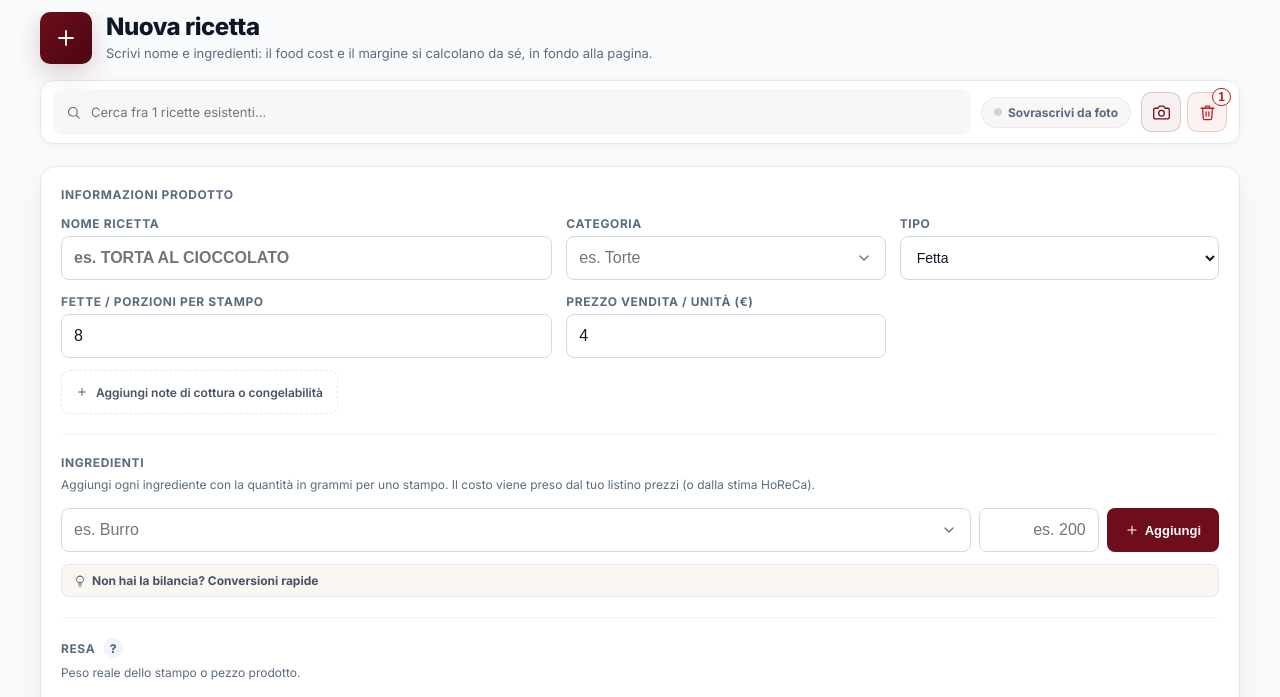
Test: Nuovo gusto - i nomi degli ingredienti mentre si aggiungono › il food cost non si muove: la riga costa quanto costava
Type "Burro" into the dropdown named "nome ingrediente da aggiungere" at (516, 530), box [61,508,971,552]
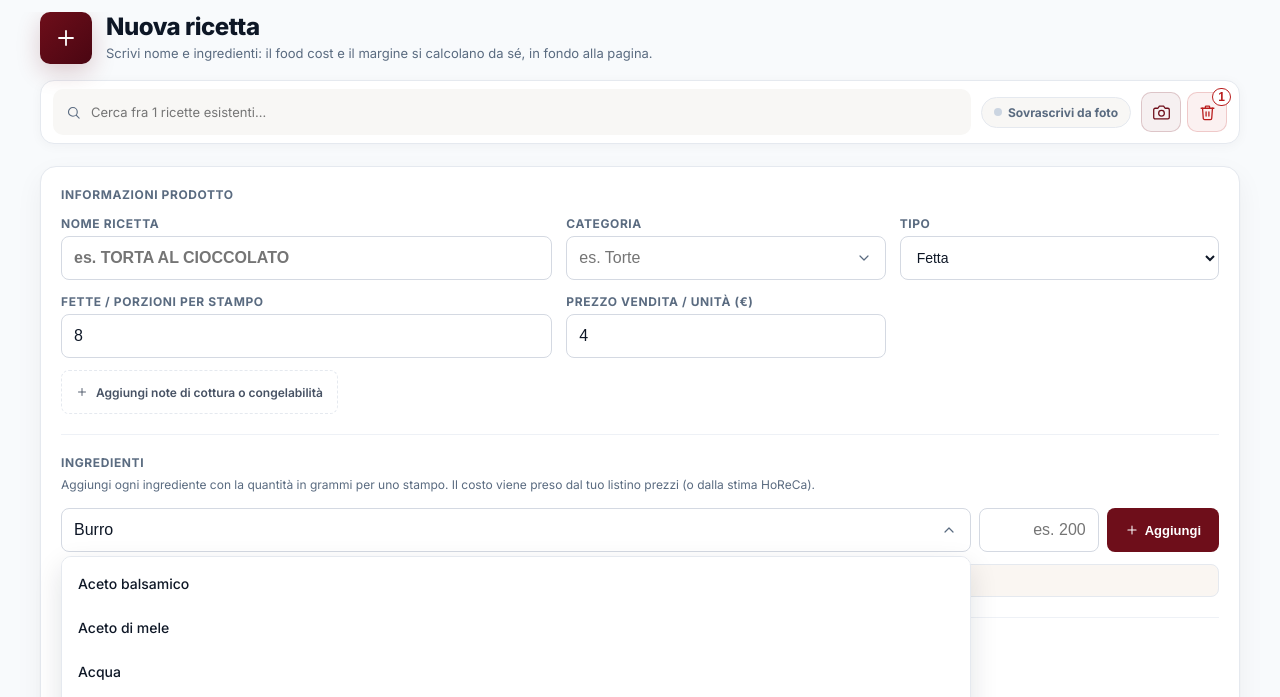
Type "250" into the field named "grammi di ingrediente da aggiungere" at (1039, 530), box [979,508,1099,552]
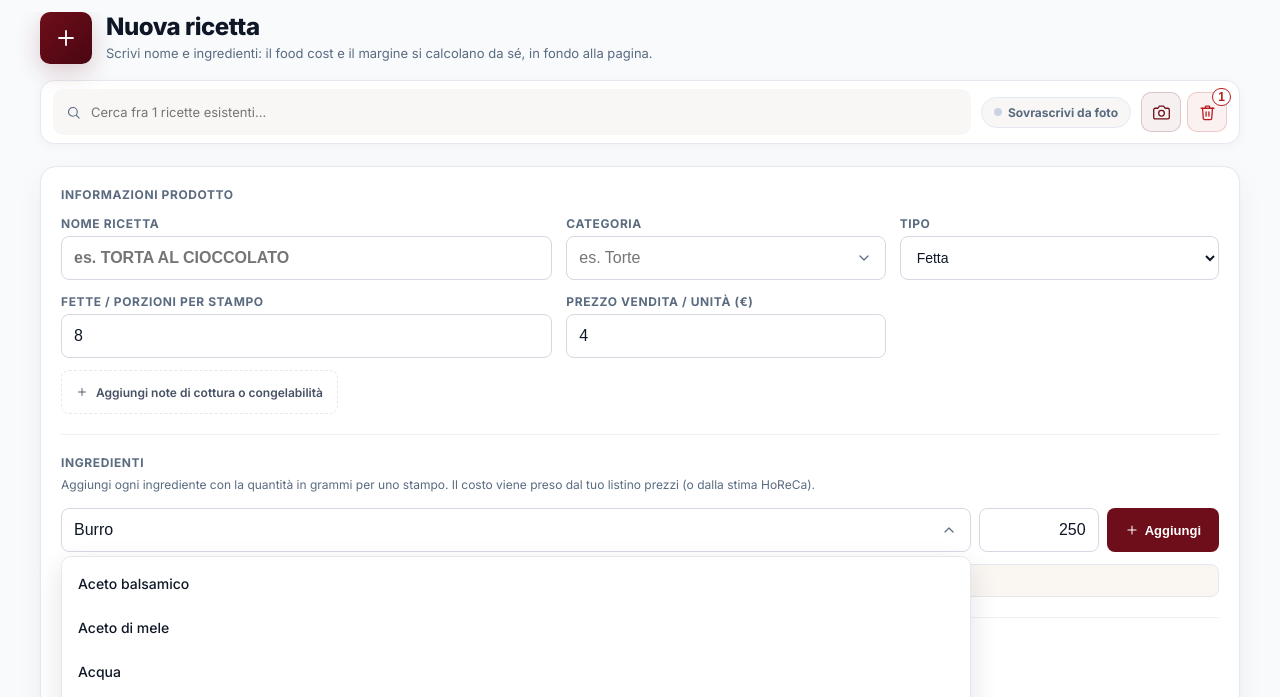
Click the button with aria-label "Aggiungi ingrediente alla ricetta" at (1163, 530), box [1107,508,1219,552]
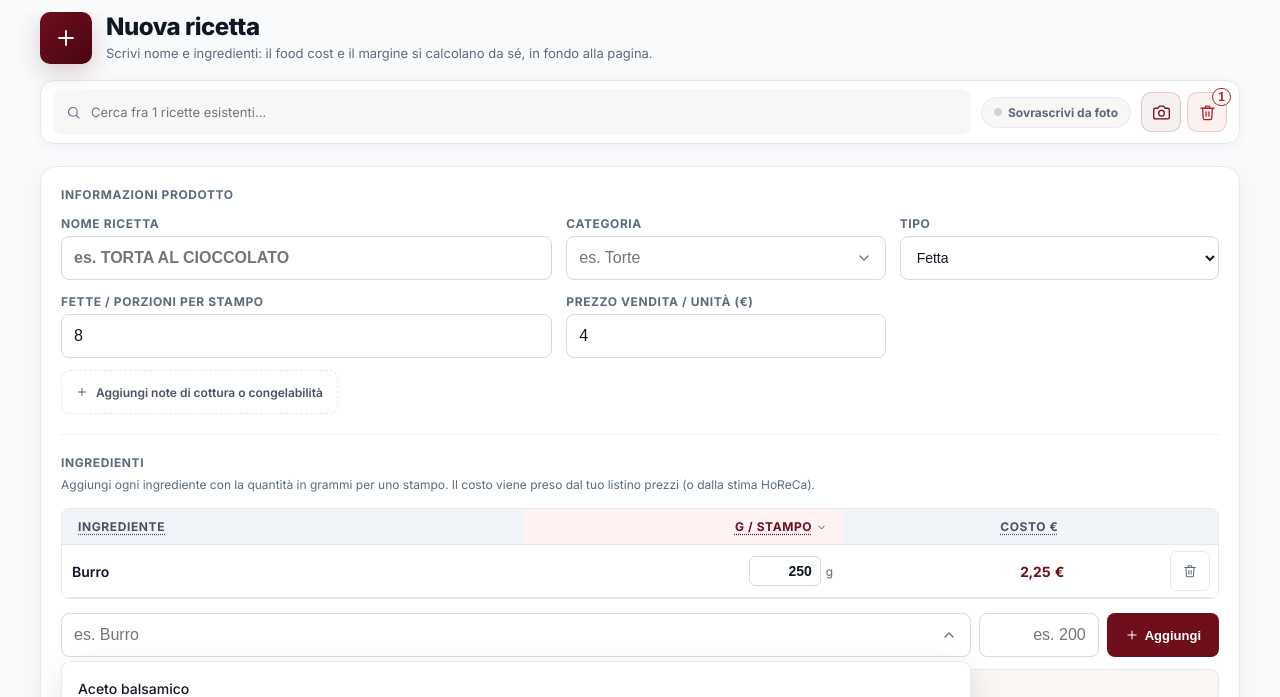
Expected: the text "2,25 €" is shown, [843,544,1074,598]
